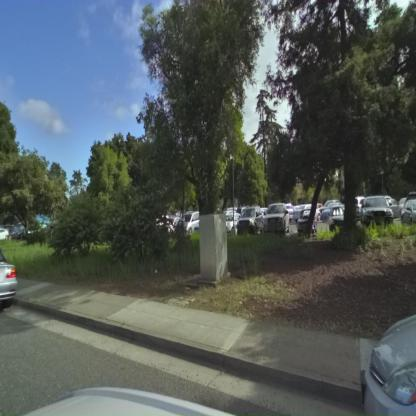car: (362, 298, 416, 412), (0, 237, 27, 318), (358, 196, 394, 225), (264, 203, 291, 234), (237, 207, 266, 234), (172, 212, 198, 236), (316, 201, 344, 223), (400, 196, 416, 224), (292, 204, 314, 223), (224, 210, 240, 232)
